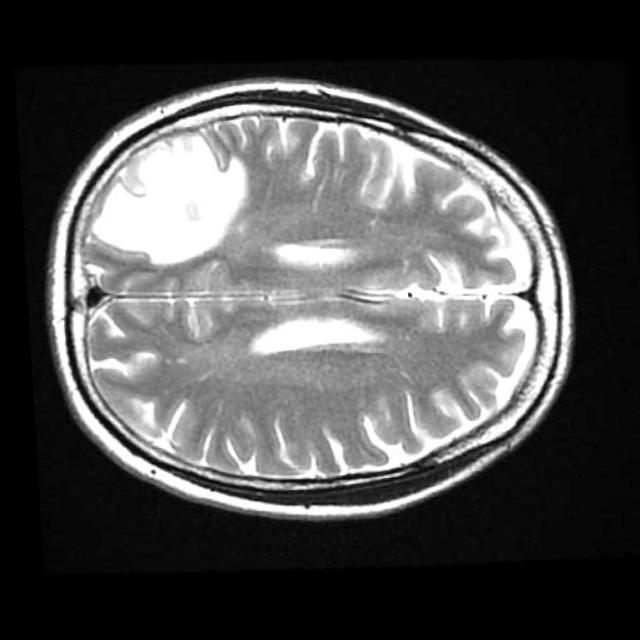Tumor: (90, 135, 241, 261)
